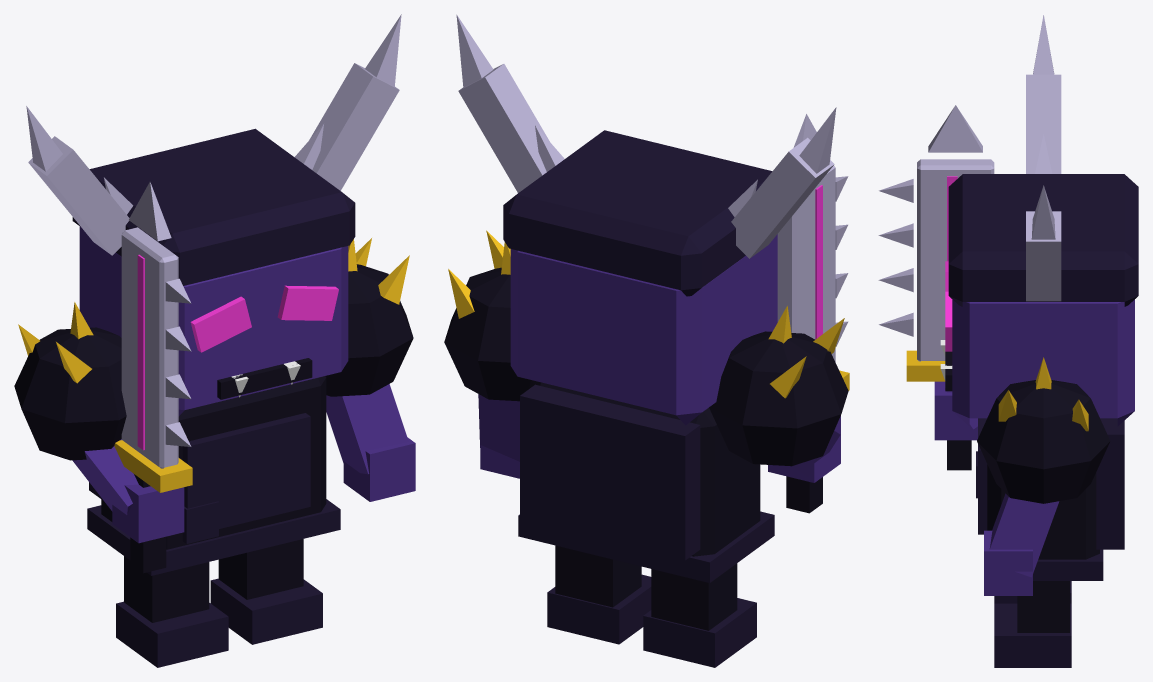
The model's file is warlord_r16.glb.
3 renders of one model, left to right at view 1: azimuth 30°, elevation 25°; view 2: azimuth 150°, elevation 25°; view 3: azimuth 270°, elevation 25°, orthographic. The views are drawn at different scales.
Parts seen in each view (by area): view 1: warlord_r16_mesh; view 2: warlord_r16_mesh; view 3: warlord_r16_mesh.
Part boxes in pixels (x1=…): warlord_r16_mesh: x1=14, y1=14, x2=415, y2=667; warlord_r16_mesh: x1=444, y1=14, x2=849, y2=667; warlord_r16_mesh: x1=878, y1=15, x2=1138, y2=667.
Size of the model in its own units: 2.55 by 3.6 by 1.6.
1 material, 1 textured.
